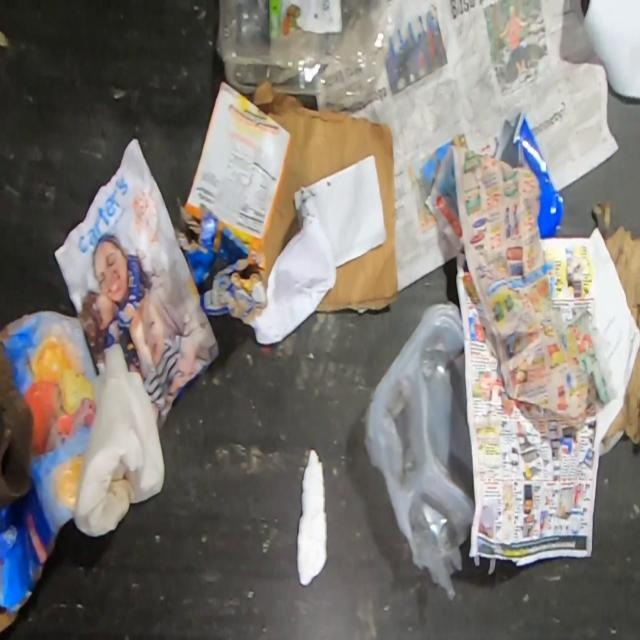cardboard: (240, 76, 398, 313), (0, 308, 101, 630), (185, 80, 290, 247), (593, 199, 640, 449), (174, 204, 268, 324)
rigid_plastic: (362, 301, 475, 599), (216, 0, 394, 108), (493, 110, 564, 239)
